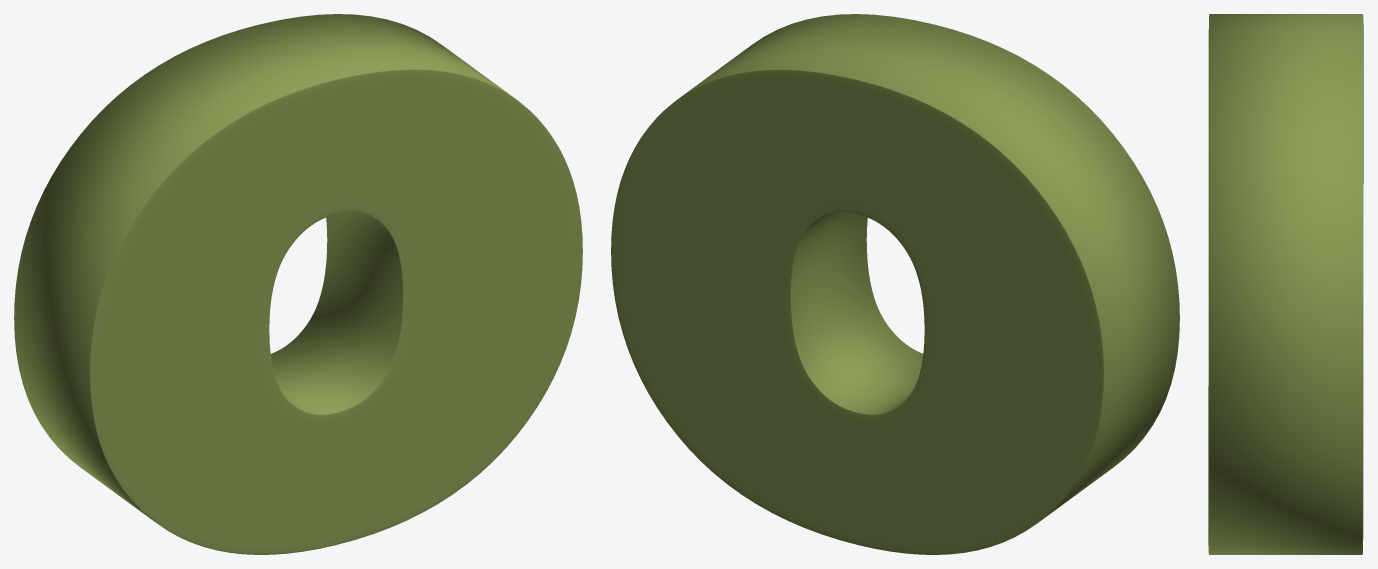
Rendered from vocal_o.glb.
The picture shows the model from 3 angles, left to right: view 1: azimuth 30°, elevation 25°; view 2: azimuth 150°, elevation 25°; view 3: azimuth 270°, elevation 25°; orthographic projection.
Parts seen in each view (by area): view 1: Text; view 2: Text; view 3: Text.
Part boxes in pixels (box(x1,y1,x2,y2)): Text: box(14, 14, 582, 554); Text: box(611, 14, 1179, 554); Text: box(1208, 14, 1363, 554).
Size of the model in its own units: 0.4429 by 0.3995 by 0.1192.
